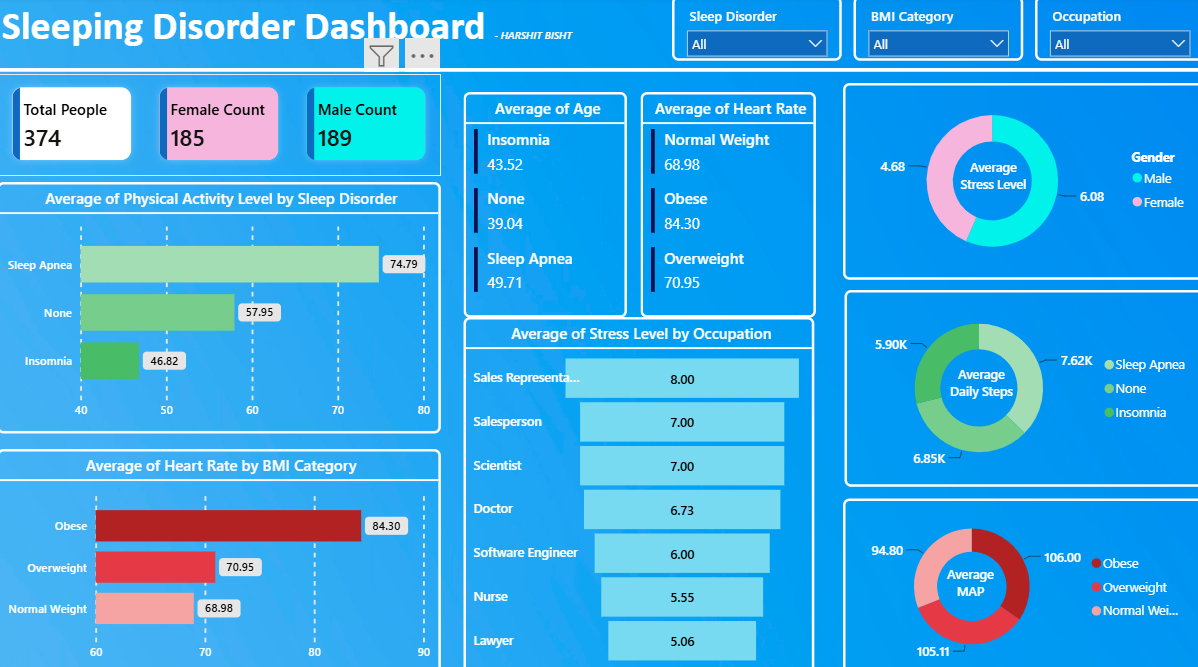

What the dashboard file says about the page in this screenshot:
{"tool":"powerbi","page":{"name":"Main","canvas":[1280,720],"ordinal":2},"visuals":[{"type":"textbox","box":[0,0,655.7,68.6],"z":0},{"type":"donutChart","fields":{"Category":["Cleaned_BSleep.Gender"],"Y":["Avg(Cleaned_BSleep.Stress Level)"]},"box":[896.7,91.7,383.3,208.3],"z":500,"group":"g2"},{"type":"cardVisual","fields":{"Data":["CountNonNull(Cleaned_BSleep.Person ID)","Sum(Cleaned_BSleep.Column)","Sum(Cleaned_BSleep.Cmale)"]},"box":[0,82.8,470.5,107.8],"z":1000},{"type":"group","id":"g1","title":"Group 2","box":[715.8,0,564.7,68.4],"z":2000},{"type":"clusteredBarChart","fields":{"Category":["Cleaned_BSleep.BMI Category"],"Y":["Avg(Cleaned_BSleep.Heart Rate)"]},"box":[0,480,470.6,240],"z":3000},{"type":"clusteredBarChart","fields":{"Category":["Cleaned_BSleep.Sleep Disorder"],"Y":["Avg(Cleaned_BSleep.Physical Activity Level)"]},"box":[0,196.5,470.6,266.5],"z":4000},{"type":"multiRowCard","title":"Average of Age","fields":{"Values":["Cleaned_BSleep.Sleep Disorder","Avg(Cleaned_BSleep.Age)"]},"box":[495.5,101.6,173.5,239.1],"z":5000},{"type":"pieChart","fields":{"Category":["Cleaned_BSleep.Sleep Disorder"],"Y":["Avg(Cleaned_BSleep.Daily Steps)"]},"box":[898.6,312.3,381.7,208.3],"z":6000,"group":"g3"},{"type":"funnel","fields":{"Category":["Cleaned_BSleep.Occupation"],"Y":["Avg(Cleaned_BSleep.Stress Level)"]},"box":[495.5,340.7,372,379.8],"z":6000},{"type":"slicer","title":"Occupation","fields":{"Values":["Cleaned_BSleep.Occupation"]},"box":[1100.7,0,180,68.4],"z":7000,"group":"g1"},{"type":"multiRowCard","title":"Average of Heart Rate","fields":{"Values":["Cleaned_BSleep.BMI Category","Avg(Cleaned_BSleep.Heart Rate)"]},"box":[681.7,101.7,185.8,239.2],"z":7000},{"type":"slicer","fields":{"Values":["Cleaned_BSleep.Sleep Disorder"]},"box":[715.8,0,180,68.4],"z":8000,"group":"g1"},{"type":"shape","box":[0,56.3,1278.5,45.3],"z":8000},{"type":"slicer","fields":{"Values":["Cleaned_BSleep.BMI Category"]},"box":[908.3,0,180,68.4],"z":9000,"group":"g1"},{"type":"group","id":"g2","title":"Group 1","box":[896.7,91.7,383.3,208.3],"z":9000},{"type":"textbox","box":[999.7,387.6,86.7,55.6],"z":10000,"group":"g3"},{"type":"pieChart","fields":{"Category":["Cleaned_BSleep.BMI Category"],"Y":["Avg(Cleaned_BSleep.Map)"]},"box":[897.1,532.9,382.9,187.1],"z":10000},{"type":"textbox","box":[988.6,598.6,85.7,55.7],"z":11000},{"type":"group","id":"g3","title":"Group 3","box":[898.6,312.3,381.7,208.3],"z":12000},{"type":"textbox","box":[1013.4,166.7,86.7,55],"z":12500,"group":"g2"}]}

Visuals, with their boxes in screenshot pixels (x1, y1, x2, y2), scaled from the page's 1280x720 canvas onto the 1198x667 screenshot:
textbox: bbox=[0, 0, 614, 64]
donutChart - Cleaned_BSleep.Gender x Avg(Cleaned_BSleep.Stress Level): bbox=[839, 85, 1197, 278]
cardVisual - CountNonNull(Cleaned_BSleep.Person ID) x Sum(Cleaned_BSleep.Column): bbox=[0, 77, 440, 177]
"Group 2" group: bbox=[670, 0, 1197, 63]
clusteredBarChart - Cleaned_BSleep.BMI Category x Avg(Cleaned_BSleep.Heart Rate): bbox=[0, 445, 440, 666]
clusteredBarChart - Cleaned_BSleep.Sleep Disorder x Avg(Cleaned_BSleep.Physical Activity Level): bbox=[0, 182, 440, 429]
"Average of Age" multiRowCard: bbox=[464, 94, 626, 316]
pieChart - Cleaned_BSleep.Sleep Disorder x Avg(Cleaned_BSleep.Daily Steps): bbox=[841, 289, 1197, 482]
funnel - Cleaned_BSleep.Occupation x Avg(Cleaned_BSleep.Stress Level): bbox=[464, 316, 812, 666]
"Occupation" slicer: bbox=[1030, 0, 1197, 63]
"Average of Heart Rate" multiRowCard: bbox=[638, 94, 812, 316]
slicer - Cleaned_BSleep.Sleep Disorder: bbox=[670, 0, 838, 63]
shape: bbox=[0, 52, 1197, 94]
slicer - Cleaned_BSleep.BMI Category: bbox=[850, 0, 1019, 63]
"Group 1" group: bbox=[839, 85, 1197, 278]
textbox: bbox=[936, 359, 1017, 411]
pieChart - Cleaned_BSleep.BMI Category x Avg(Cleaned_BSleep.Map): bbox=[840, 494, 1197, 666]
textbox: bbox=[925, 555, 1005, 606]
"Group 3" group: bbox=[841, 289, 1197, 482]
textbox: bbox=[948, 154, 1030, 205]
